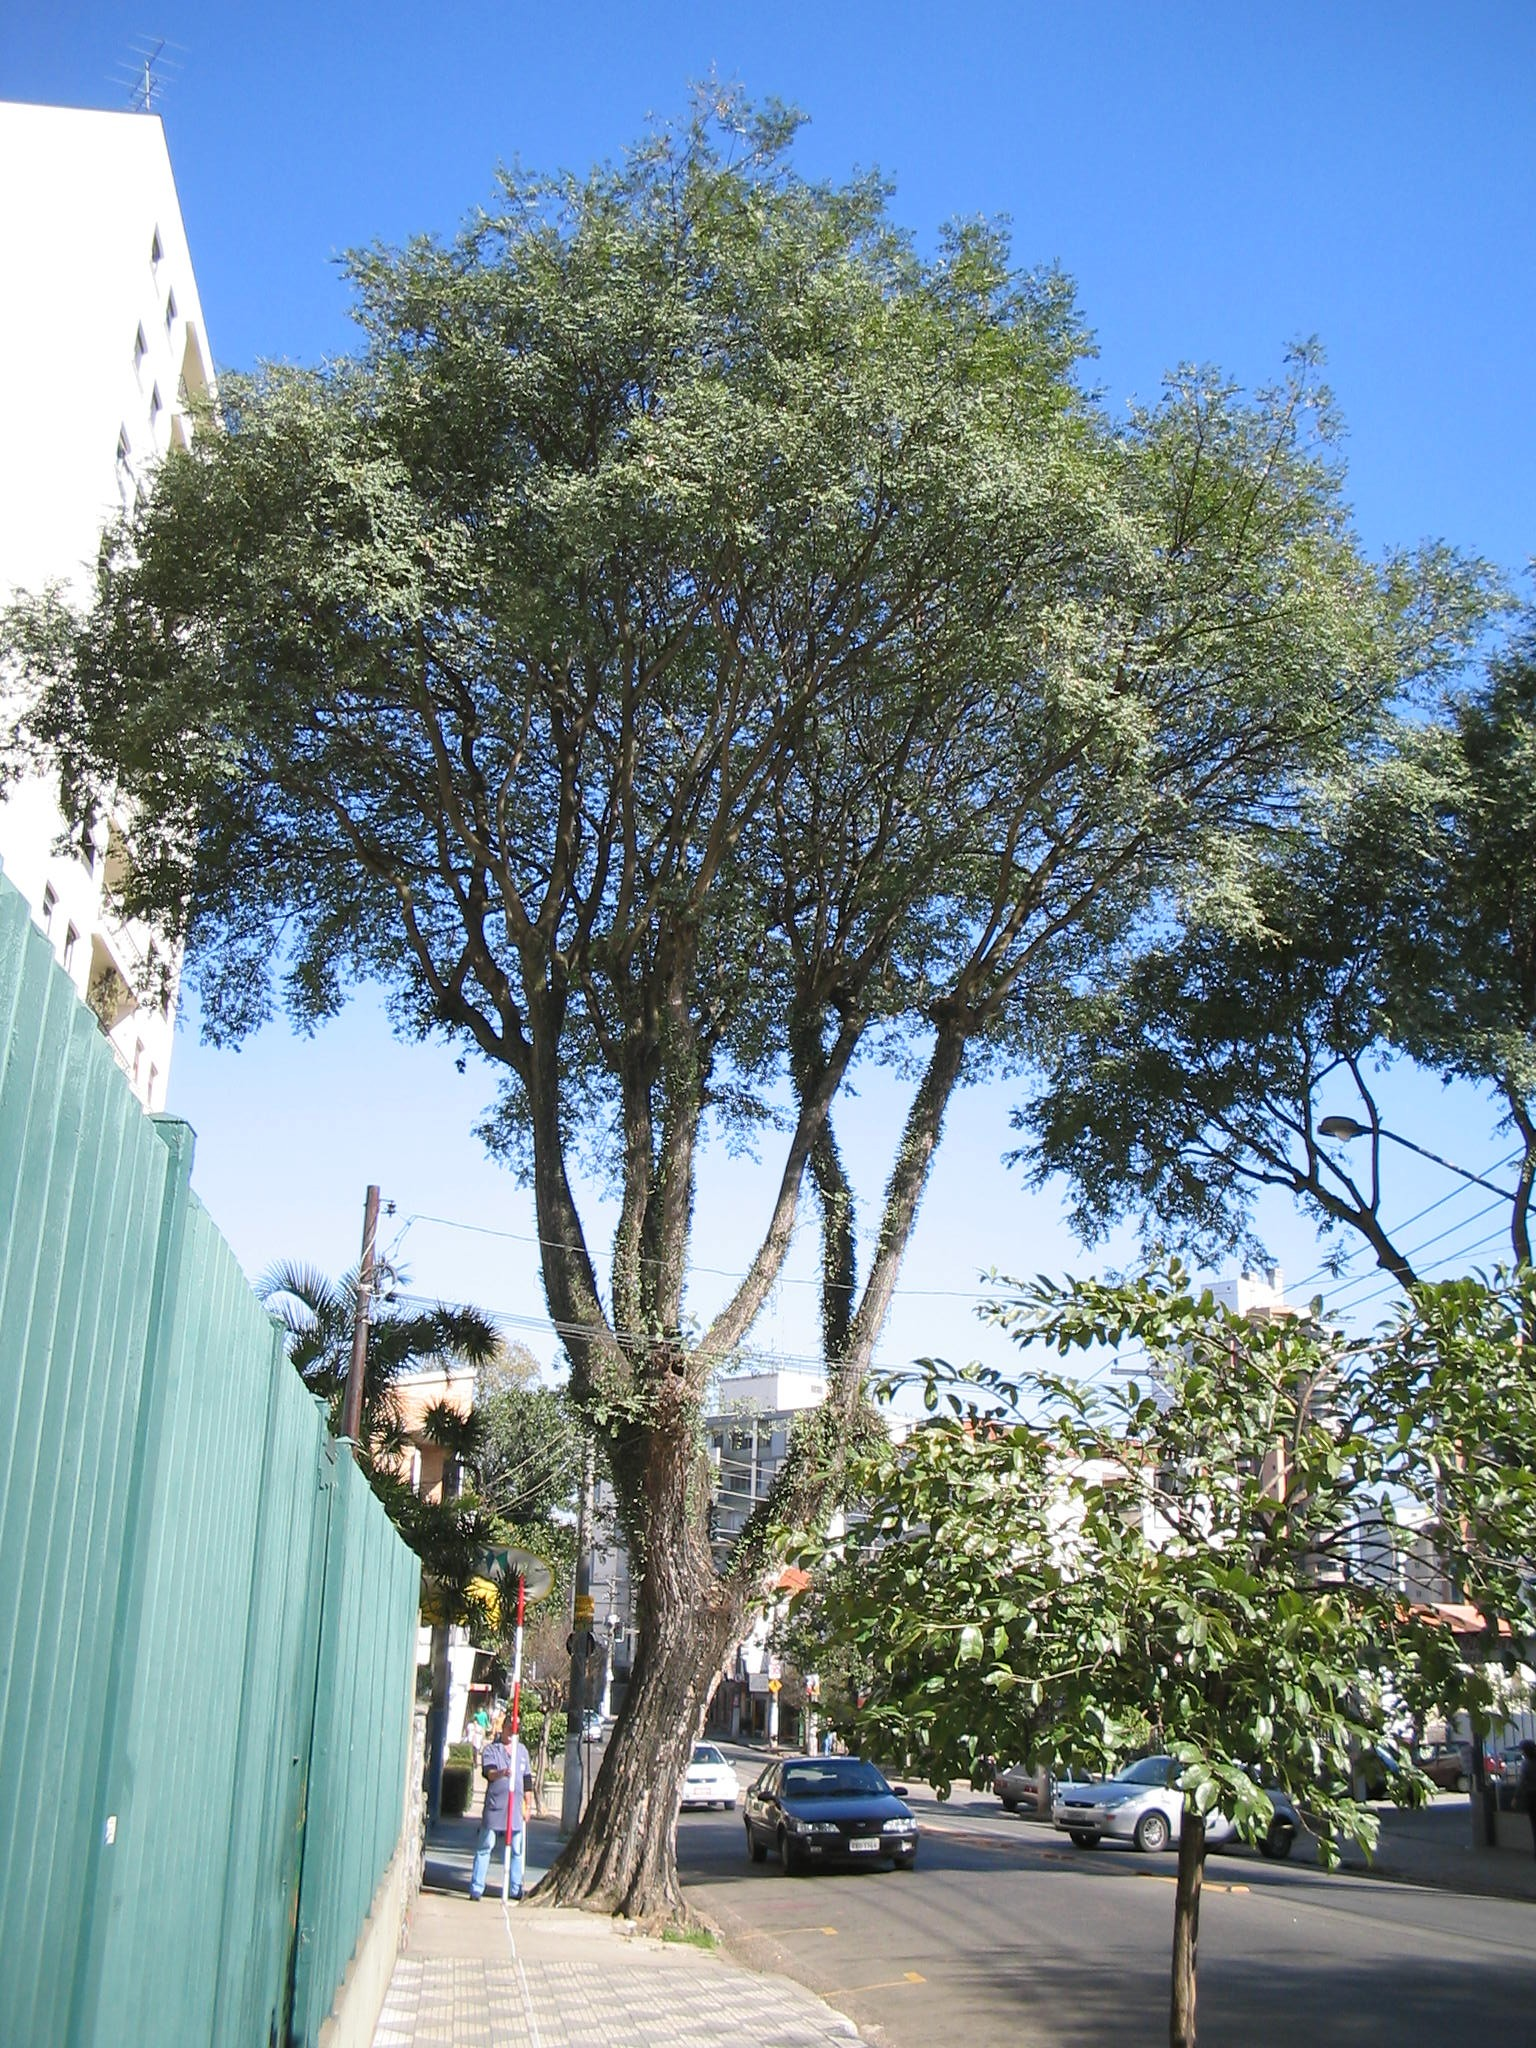crown: (11, 61, 1475, 1147)
stem: (536, 1582, 766, 1913), (1125, 1811, 1249, 2040)
stick: (471, 1574, 545, 1904)
tree: (6, 63, 1480, 1916), (829, 1279, 1528, 2045)
